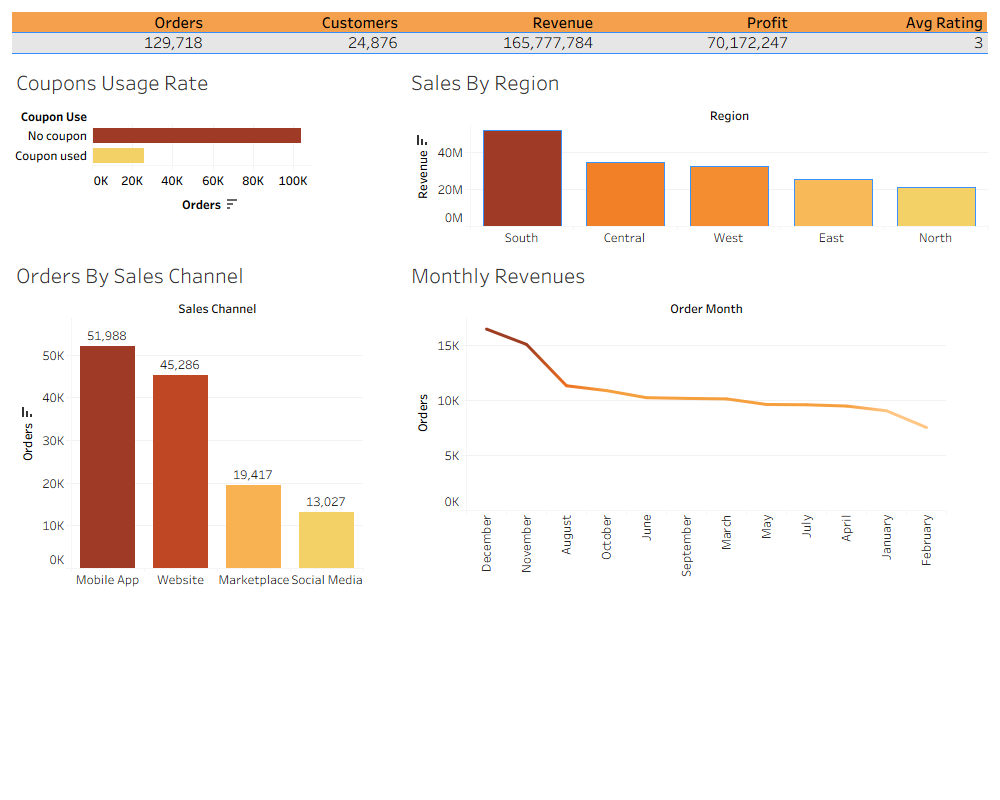

This screenshot's page, from the dashboard's own definition file:
{"tool":"tableau","page":{"name":"Dashboard 1","canvas":[1000,800],"ordinal":0},"visuals":[{"type":"worksheet","title":"Sheet 1","mark":"Automatic","box":[8,8,984,50]},{"type":"worksheet","title":"Sheet 2","mark":"Line","rows":["orders"],"cols":["order_month"],"box":[8,58,573,318]},{"type":"worksheet","title":"Sheet 5","mark":"Bar","rows":["revenue"],"cols":["region"],"box":[581,58,411,318]},{"type":"worksheet","title":"Sheet 4","mark":"Bar","rows":["orders"],"cols":["sales_channel"],"box":[8,376,573,416]},{"type":"highlighter","title":"Sheet 5","param":"[federated.0vv4uk801vl9bc11f7trs0dwmzf9].[none:region:nk]","box":[581,376,411,52]},{"type":"worksheet","title":"Sheet 6","mark":"Bar","rows":["coupon_use"],"cols":["orders"],"box":[581,428,411,166]}]}

Visuals, with their boxes in screenshot pixels (x1, y1, x2, y2), scaled from the page's 1000x800 canvas onto the 1000x800 screenshot:
"Sheet 1" worksheet: l=8, t=8, r=992, b=58
"Sheet 2" worksheet (Line marks): l=8, t=58, r=581, b=376
"Sheet 5" worksheet (Bar marks): l=581, t=58, r=992, b=376
"Sheet 4" worksheet (Bar marks): l=8, t=376, r=581, b=792
"Sheet 5" highlighter: l=581, t=376, r=992, b=428
"Sheet 6" worksheet (Bar marks): l=581, t=428, r=992, b=594
